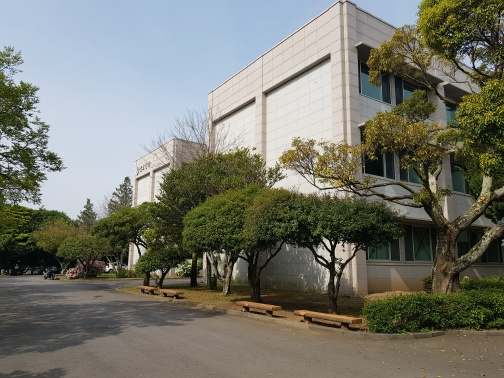College of Nursing: (208, 19, 475, 291), (119, 127, 182, 264)
